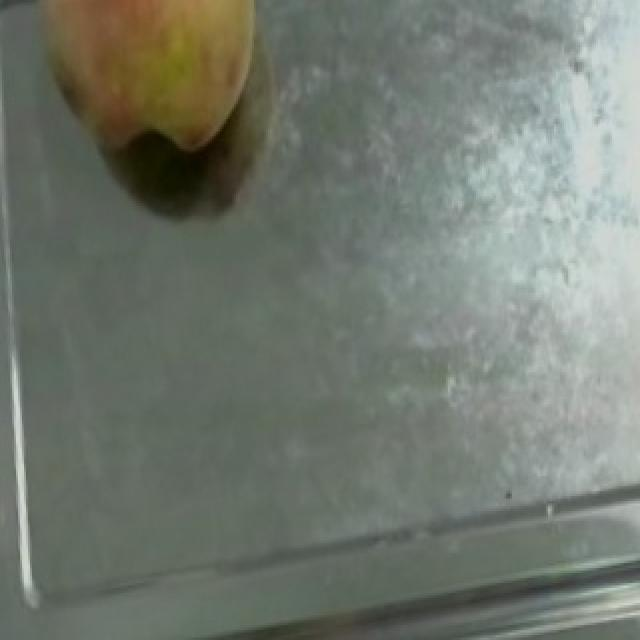Fruit: (10, 0, 270, 169)
